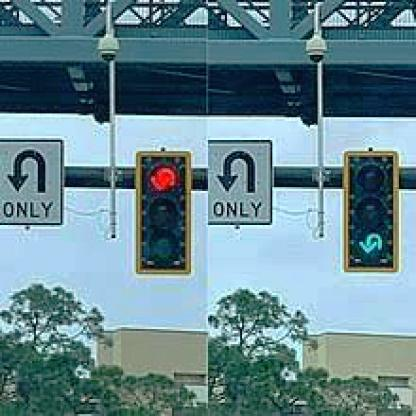U-turn: (1, 140, 60, 204), (208, 140, 268, 202)
